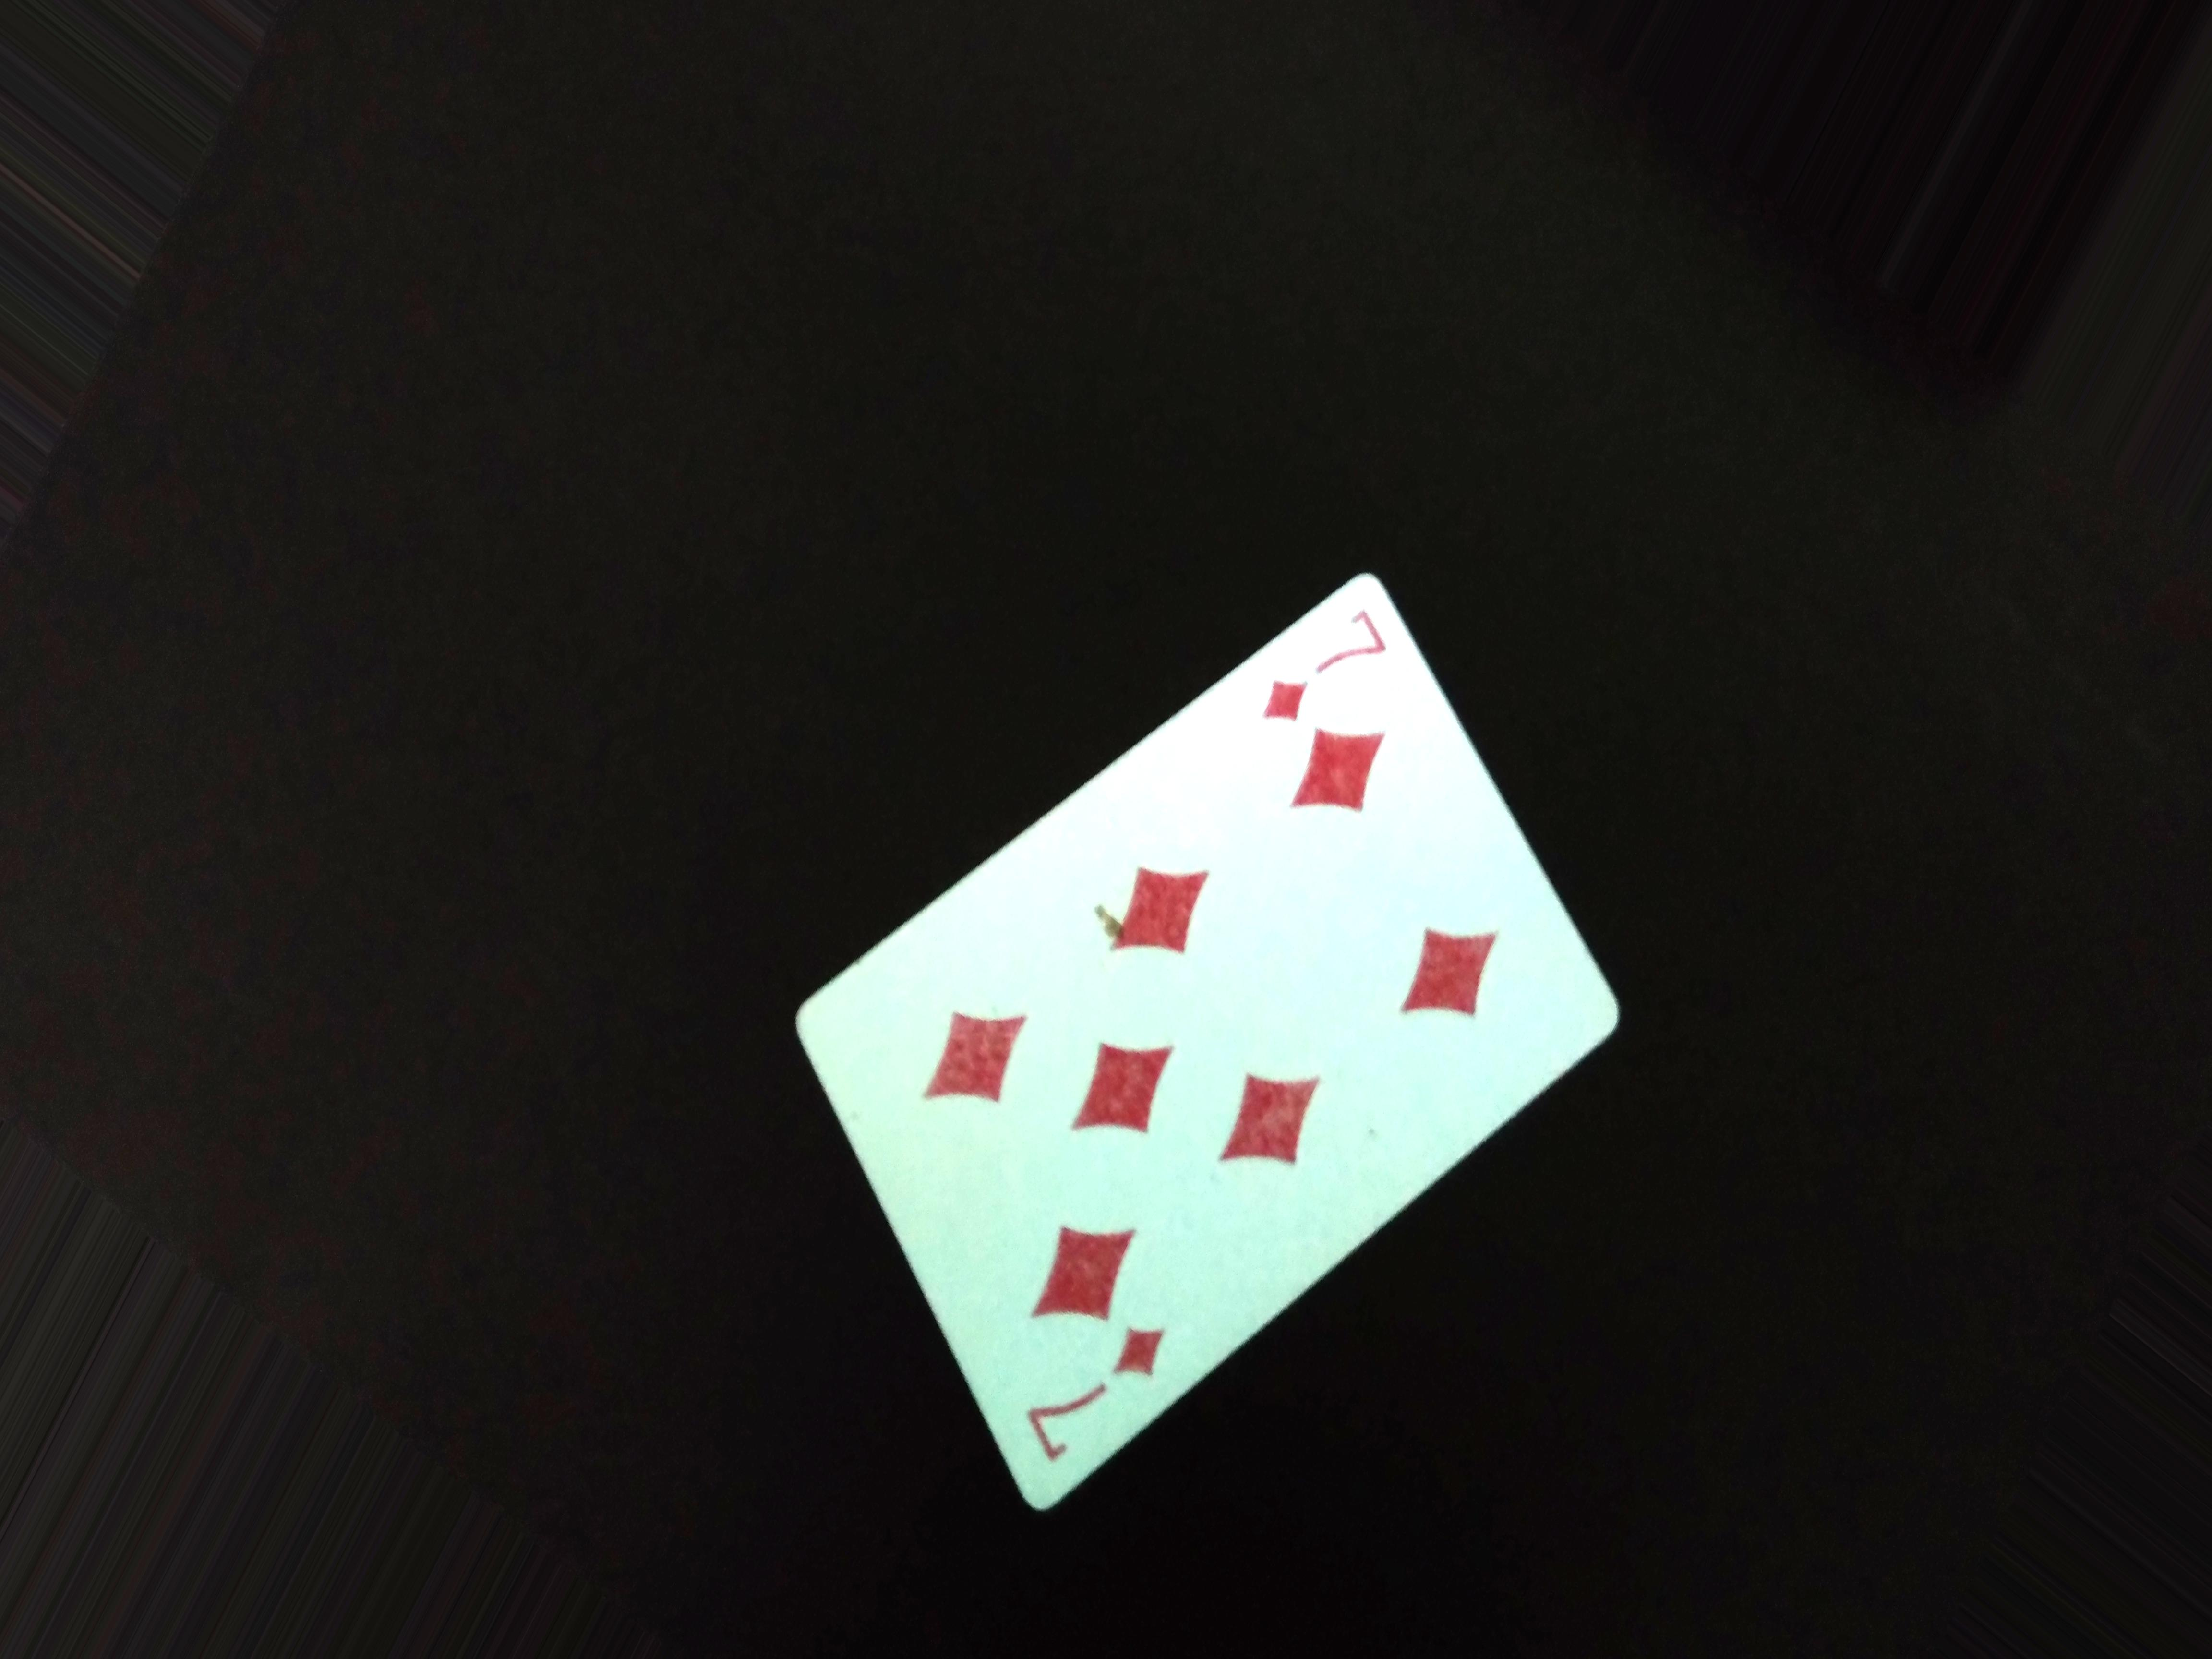7D: (1244, 598, 1409, 744)
